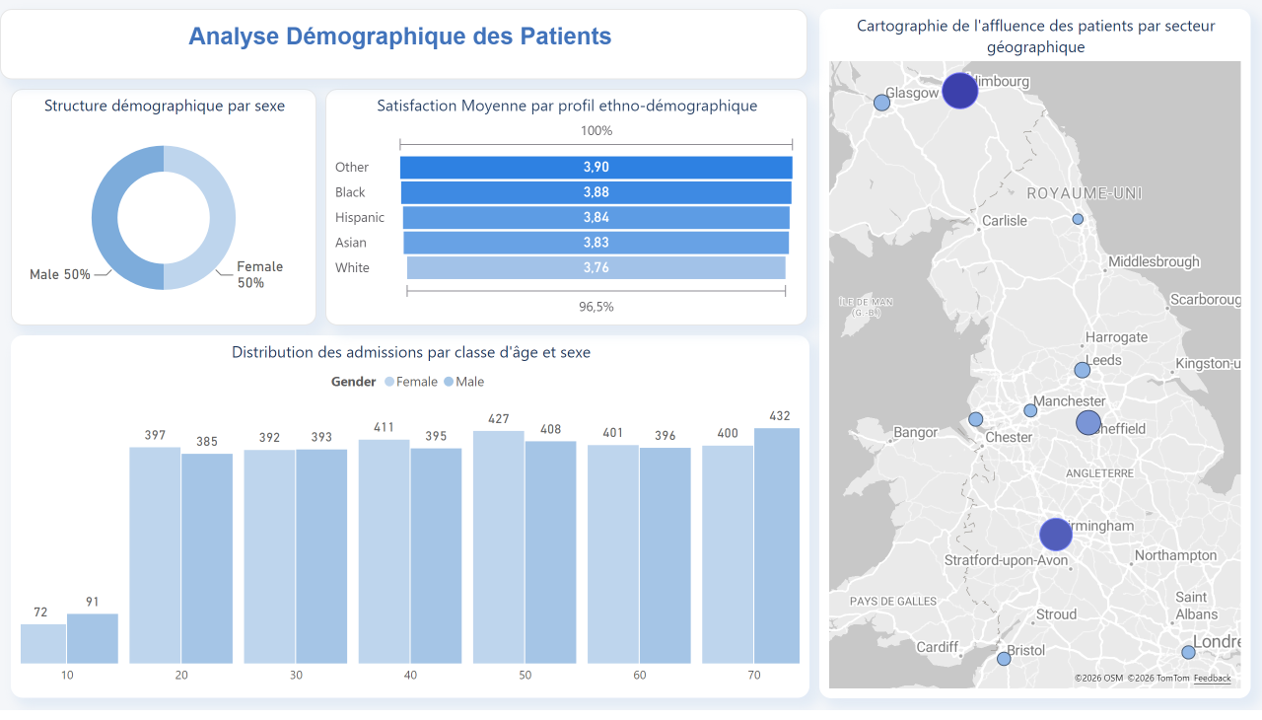

The page's visual inventory and layout, read from the dashboard file:
{"tool":"powerbi","page":{"name":"Analyse Patient ","canvas":[1280,720],"ordinal":1},"visuals":[{"type":"donutChart","title":"Structure démographique par sexe","fields":{"Category":["patients.Gender"],"Y":["_Mesures.Total Visites"]},"box":[11.2,90,310,240],"z":0},{"type":"clusteredColumnChart","title":"Distribution des admissions par classe d''âge et sexe","fields":{"Category":["patients.Age (compartiments)"],"Y":["_Mesures.Total Visites"],"Series":["patients.Gender"]},"box":[11.2,340,810,367.5],"z":1000},{"type":"azureMap","title":"Cartographie de l''affluence des patients par secteur géographique","fields":{"Category":["cities.City","cities.State"],"Size":["_Mesures.Total Visites"]},"box":[831.2,8.8,437.5,698.8],"z":2000},{"type":"funnel","title":"Satisfaction Moyenne par profil ethno-démographique","fields":{"Category":["patients.Race"],"Y":["_Mesures.Satisfaction Moyenne"]},"box":[330,90,488.8,240],"z":3000},{"type":"textbox","box":[0,8.8,818.8,71.2],"z":4000}]}

Visuals, with their boxes in screenshot pixels (x1, y1, x2, y2), scaled from the page's 1280x720 canvas onto the 1262x720 screenshot:
"Structure démographique par sexe" donutChart: <bbox>11, 90, 317, 330</bbox>
"Distribution des admissions par classe d''âge et sexe" clusteredColumnChart: <bbox>11, 340, 810, 708</bbox>
"Cartographie de l''affluence des patients par secteur géographique" azureMap: <bbox>820, 9, 1251, 708</bbox>
"Satisfaction Moyenne par profil ethno-démographique" funnel: <bbox>325, 90, 807, 330</bbox>
textbox: <bbox>0, 9, 807, 80</bbox>
